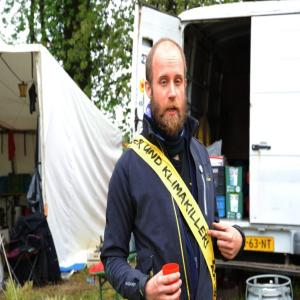Vehicle-registration-plate: (245, 237, 275, 253)
